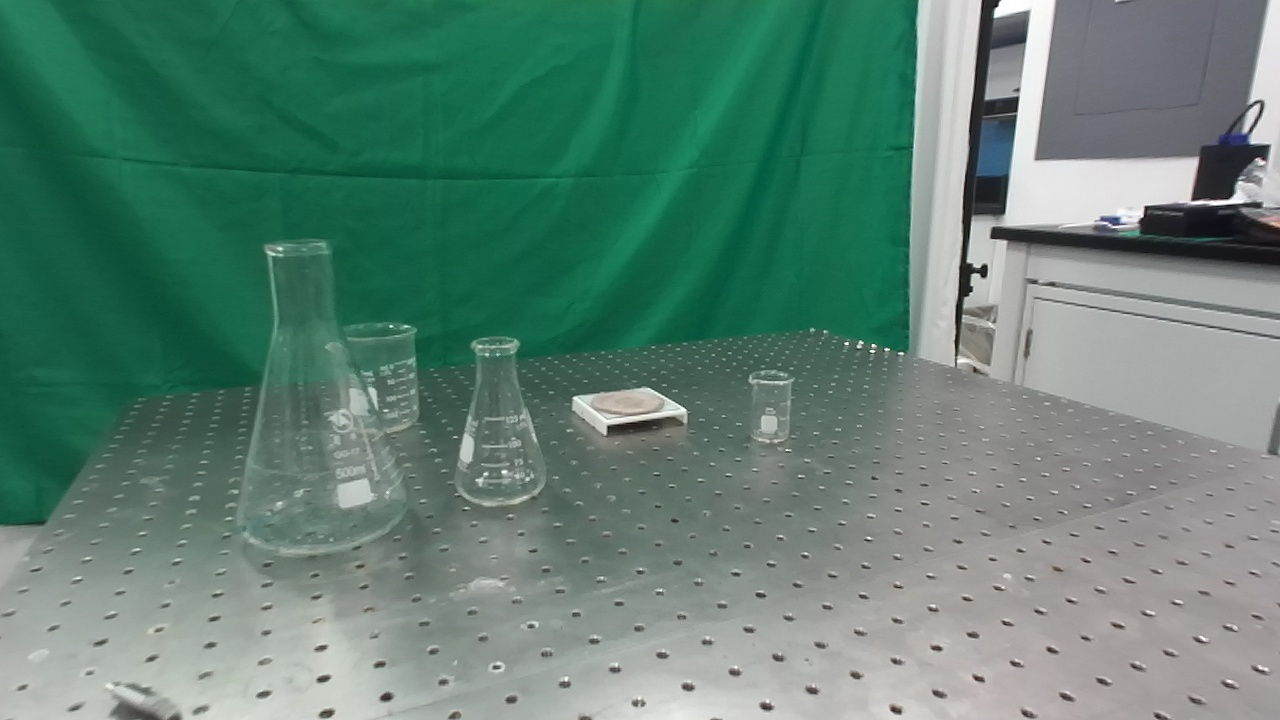glass: (230, 235, 413, 560), (447, 329, 551, 508), (331, 316, 422, 428), (744, 364, 797, 448)
plate: (569, 383, 694, 437)
